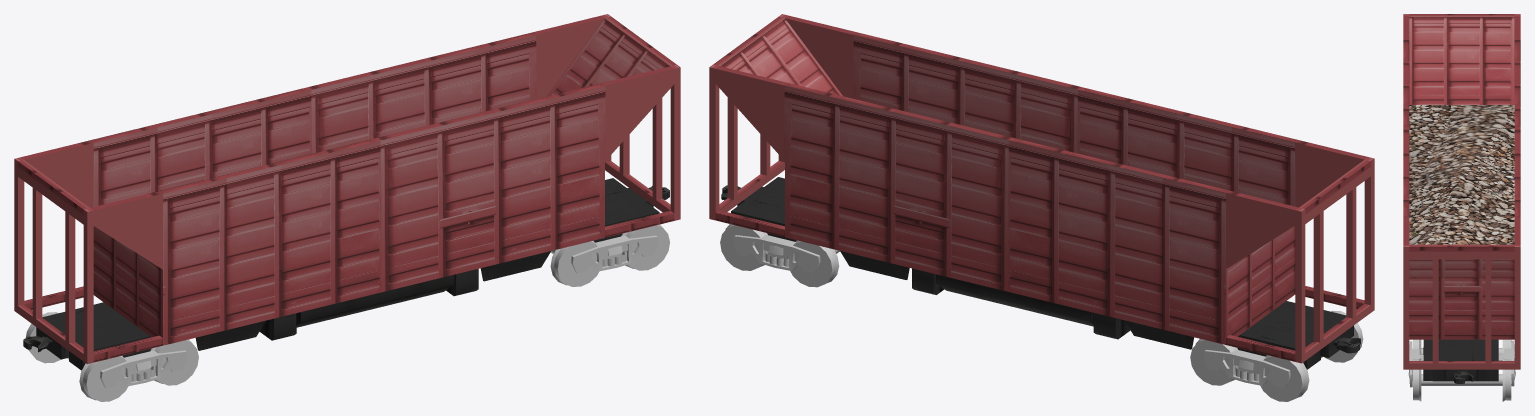
Rendered from TrainWagonCargo5.FBX.
The picture shows the model from 3 angles, left to right: view 1: azimuth 30°, elevation 25°; view 2: azimuth 150°, elevation 25°; view 3: azimuth 270°, elevation 25°; orthographic projection. The views are drawn at different scales.
Parts seen in each view (by area): view 1: TrainWagonCargo5, TrainWagonCargo5Detail, TrainWagonCargo5Wheels; view 2: TrainWagonCargo5, TrainWagonCargo5Detail, TrainWagonCargo5Wheels; view 3: TrainWagonCargo5, TrainWagonCargo5Detail, TrainWagonCargo5Wheels.
Boxes of the visible parts, <box> form: TrainWagonCargo5: <box>14,14,680,364</box>; TrainWagonCargo5Detail: <box>23,178,669,370</box>; TrainWagonCargo5Wheels: <box>26,224,669,401</box>; TrainWagonCargo5: <box>709,14,1374,363</box>; TrainWagonCargo5Detail: <box>721,177,1360,369</box>; TrainWagonCargo5Wheels: <box>720,224,1363,401</box>; TrainWagonCargo5: <box>1403,14,1520,369</box>; TrainWagonCargo5Detail: <box>1423,339,1498,383</box>; TrainWagonCargo5Wheels: <box>1408,339,1515,401</box>.
Size of the model in its own units: 790 by 240 by 156.
